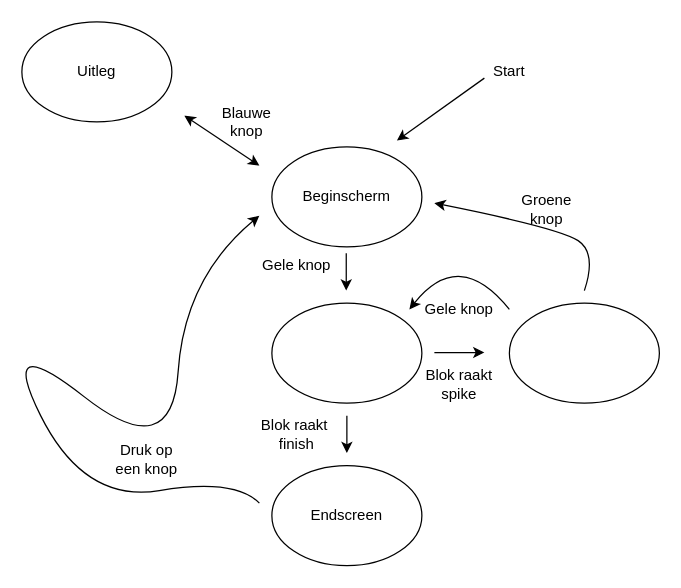
Image size: 681x588. Some labels were removed from this diagram. The shapes that lost their labels are listed below. From the top down, each one's box as (x1, y1, x2, y2) in pixels, then its label:
(271, 302, 422, 403): Spelen
(508, 302, 659, 403): Game over screen
